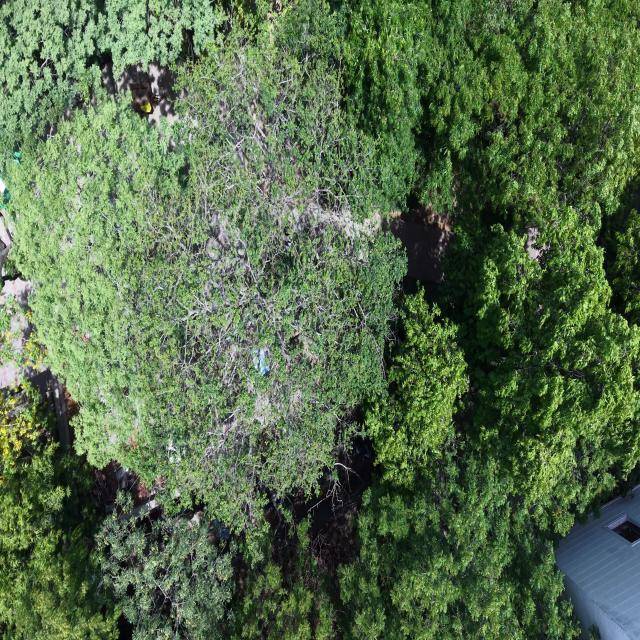ROOFTOP_BUILDING: (556, 485, 639, 639)
VEGETATION_TREE: (0, 0, 639, 639), (9, 24, 404, 521), (343, 0, 639, 226), (448, 207, 639, 533), (341, 448, 576, 639), (0, 0, 224, 170), (0, 389, 120, 639), (365, 290, 468, 486), (96, 495, 232, 639), (232, 521, 335, 639), (0, 384, 45, 473), (608, 209, 639, 324), (0, 294, 45, 371)
